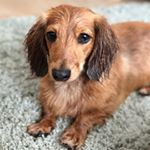puppy: (20, 1, 114, 150)
